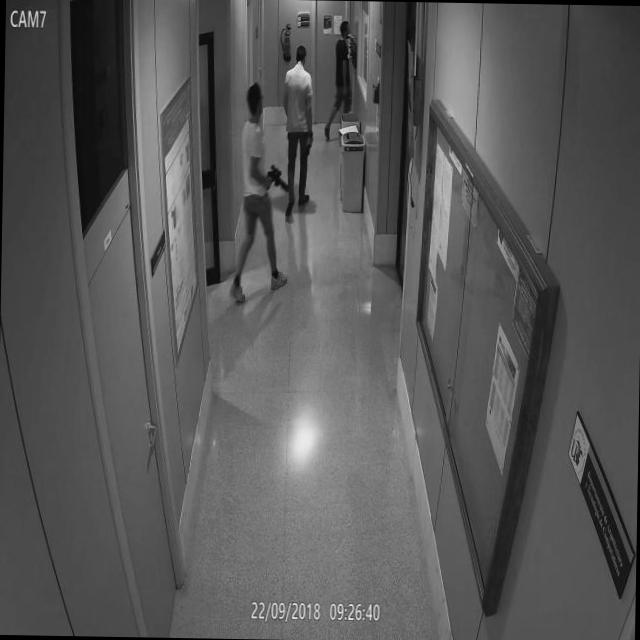gun: (262, 158, 292, 206), (341, 86, 351, 109)
person with a gun: (228, 78, 290, 304), (278, 40, 316, 218), (323, 17, 356, 108)
